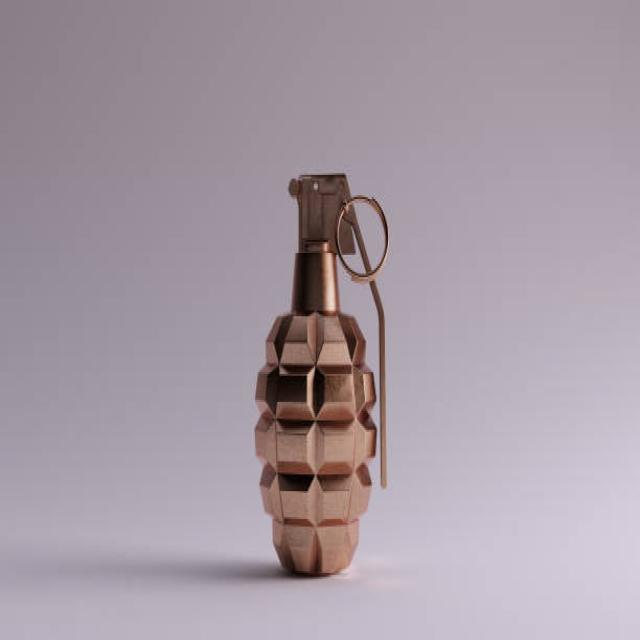grenade: (252, 147, 396, 589)
